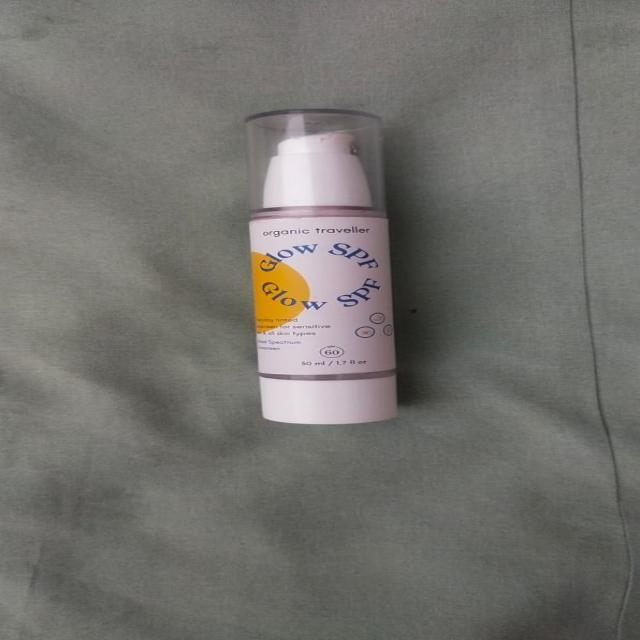sun block: (202, 87, 446, 443)
